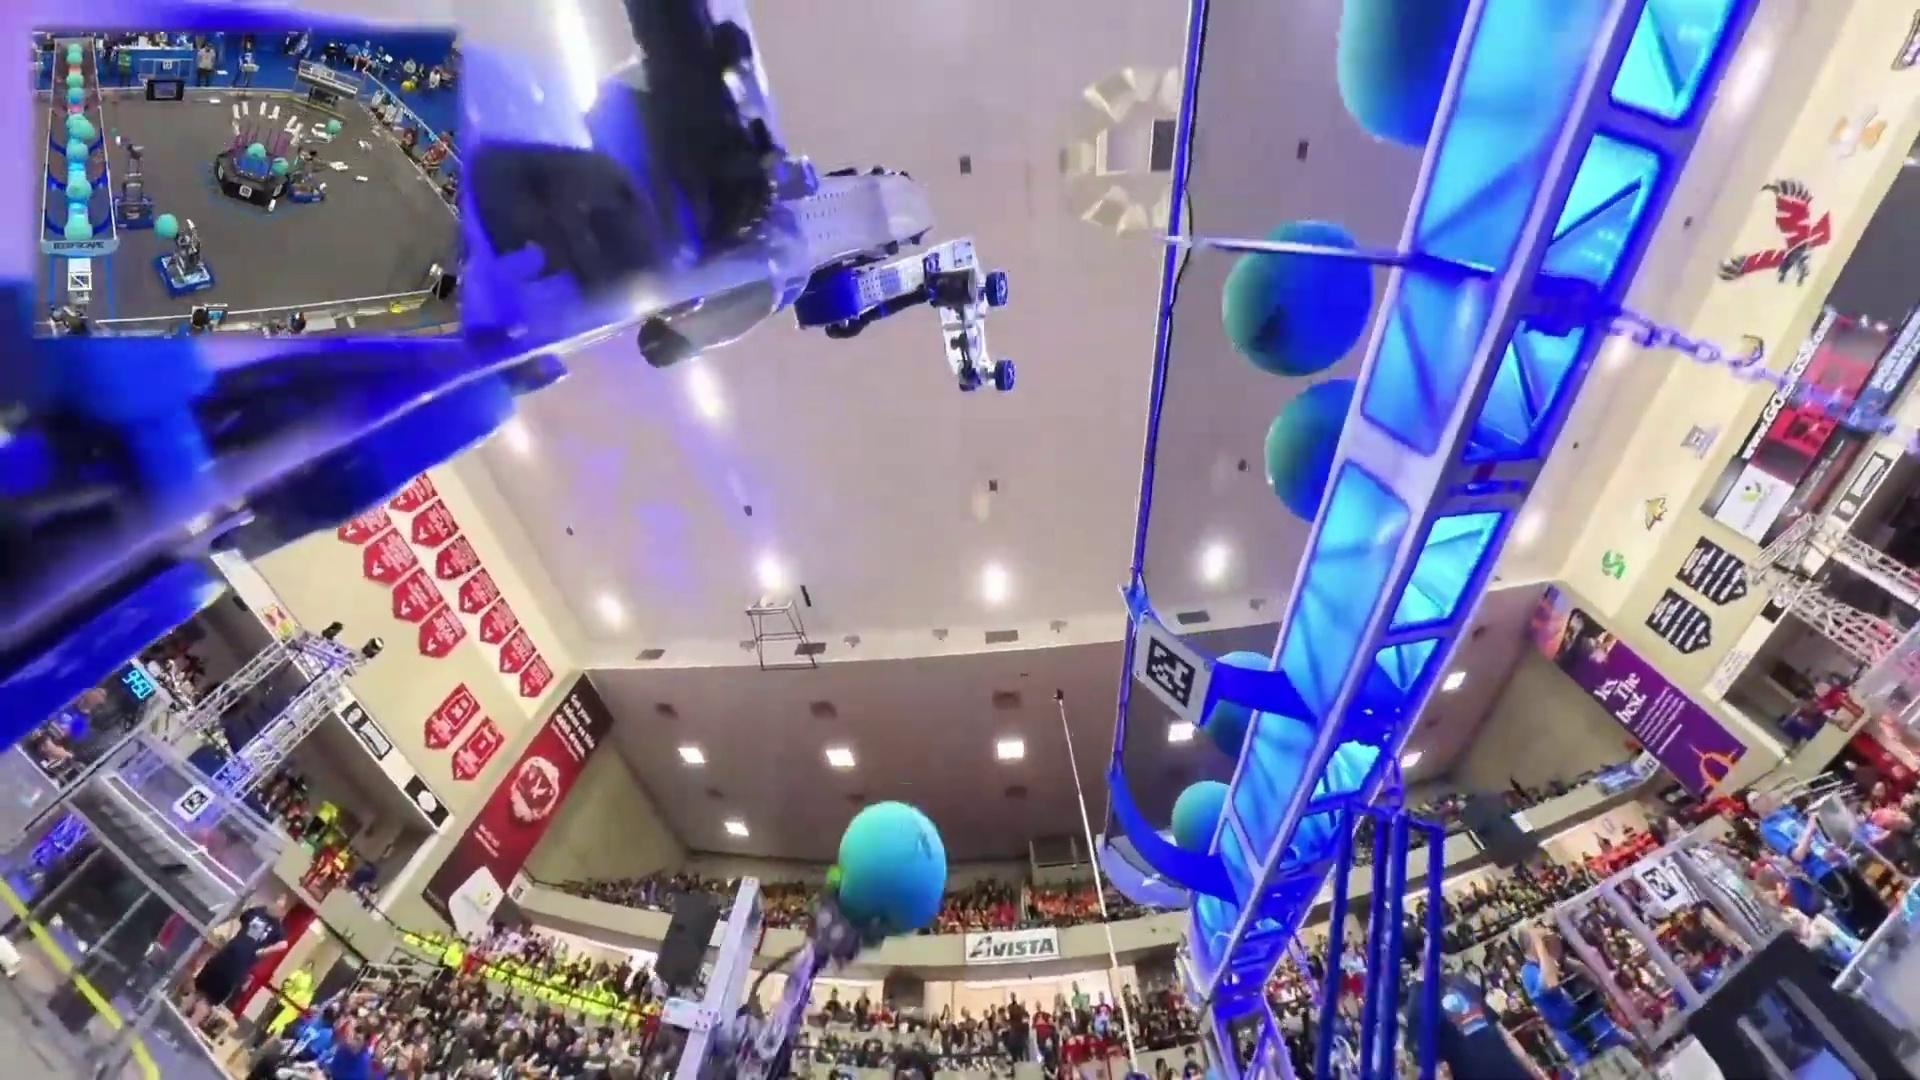robot: (154, 214, 215, 294), (111, 138, 157, 231), (286, 149, 330, 204)
